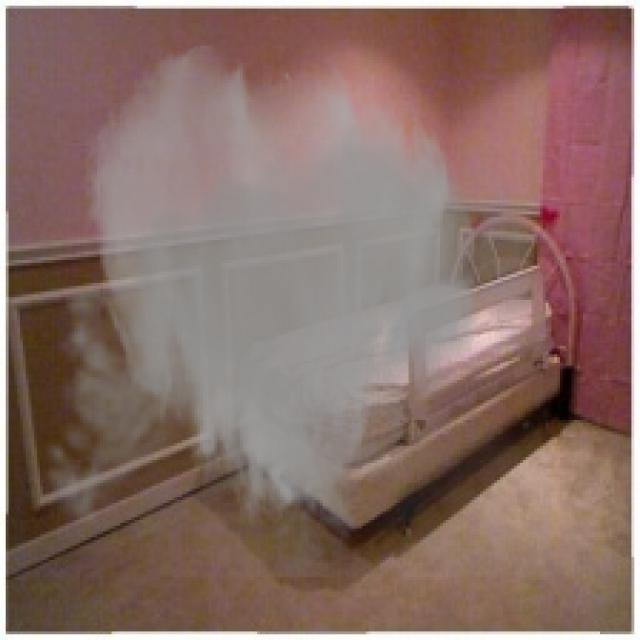Smoke: (29, 40, 552, 577)
